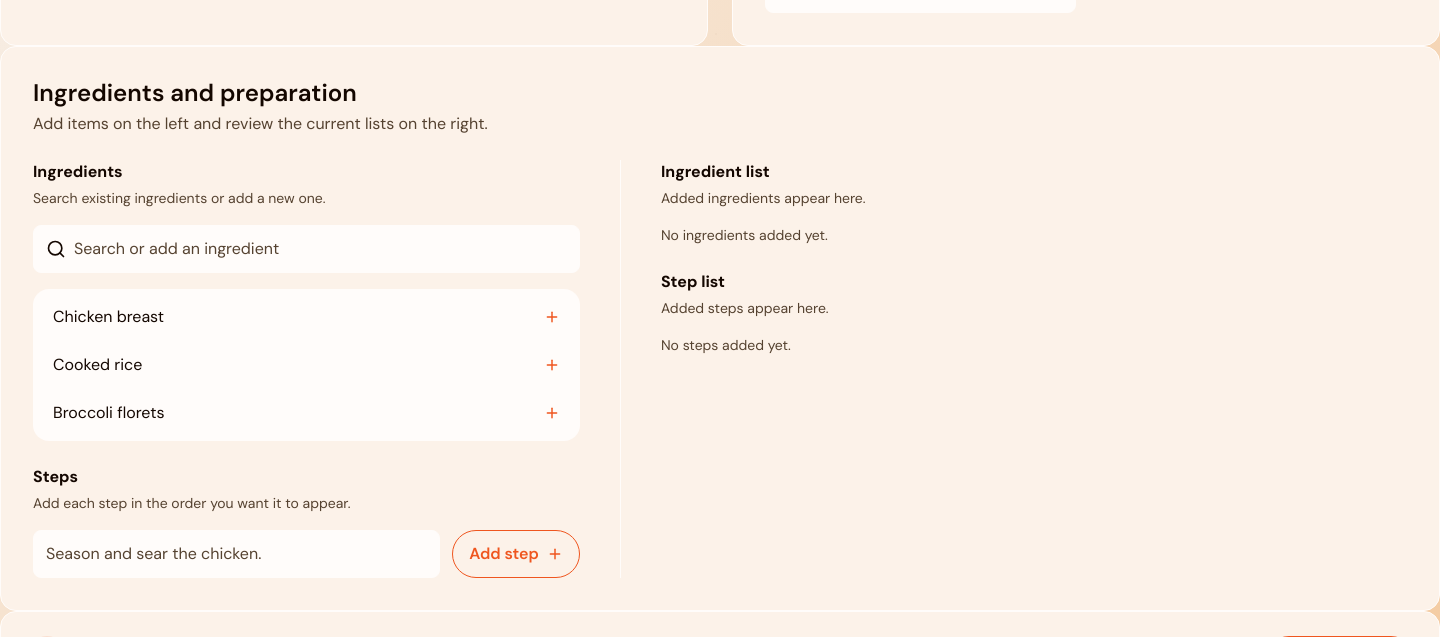
Test: NewRecipeFormFields › filters ingredients and shows an add action for a new ingredient
The image size is (1440, 637).
(page scrolled)
Type "rice" into the field with placeholder "Search or add an ingredient".
click(320, 249); type("rice")  # box [74,237,567,261]
(page scrolled)
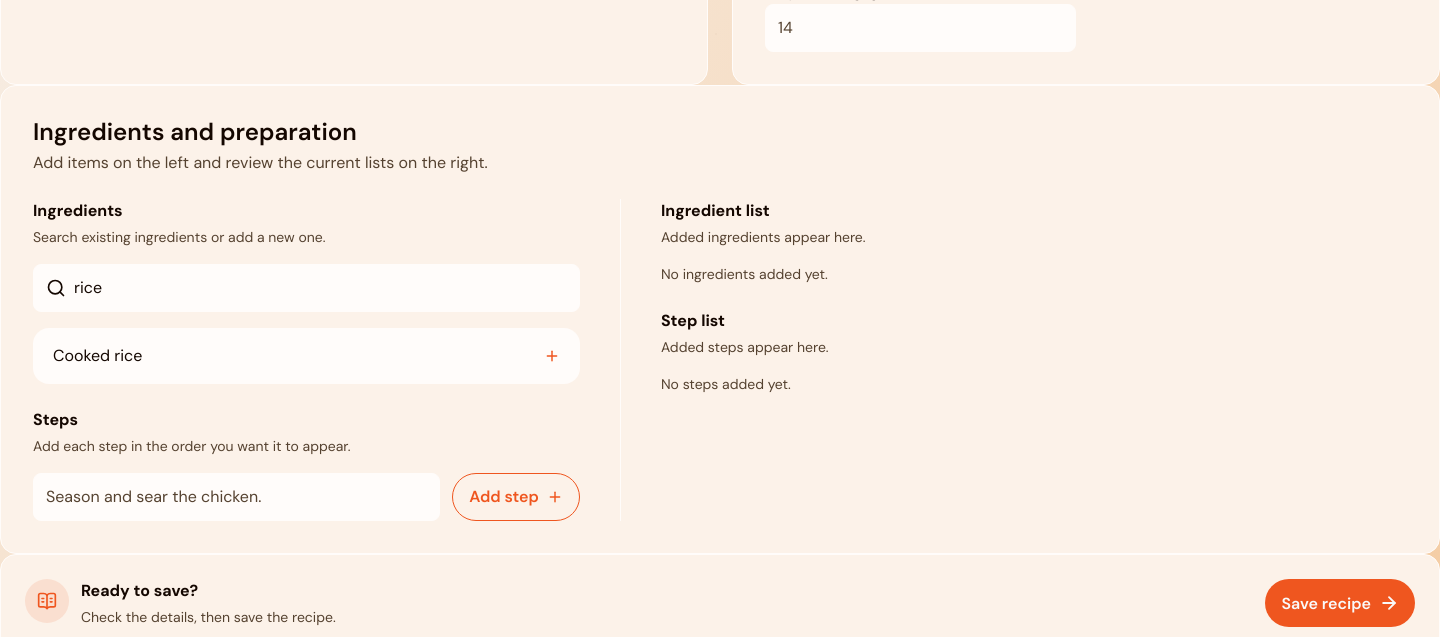
Expected: the button "Cooked rice" is shown, [41,336,572,376]
Expected: the button "Chicken breast" is gone
Replace the text in the field with placeholder "Search or add an ingredient" with "Greek yogurt" at (320, 288), box [74,276,567,300]
(page scrolled)
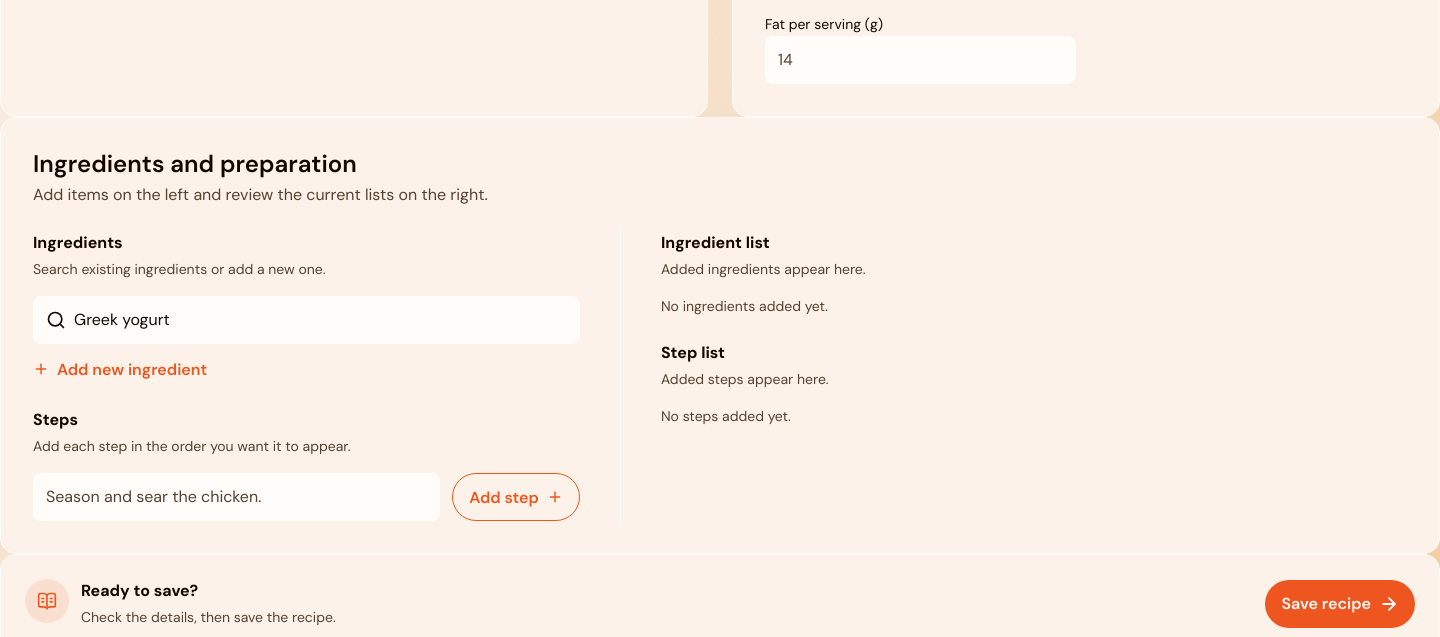
Expected: the button "Add new ingredient" is shown, [33,360,207,379]
